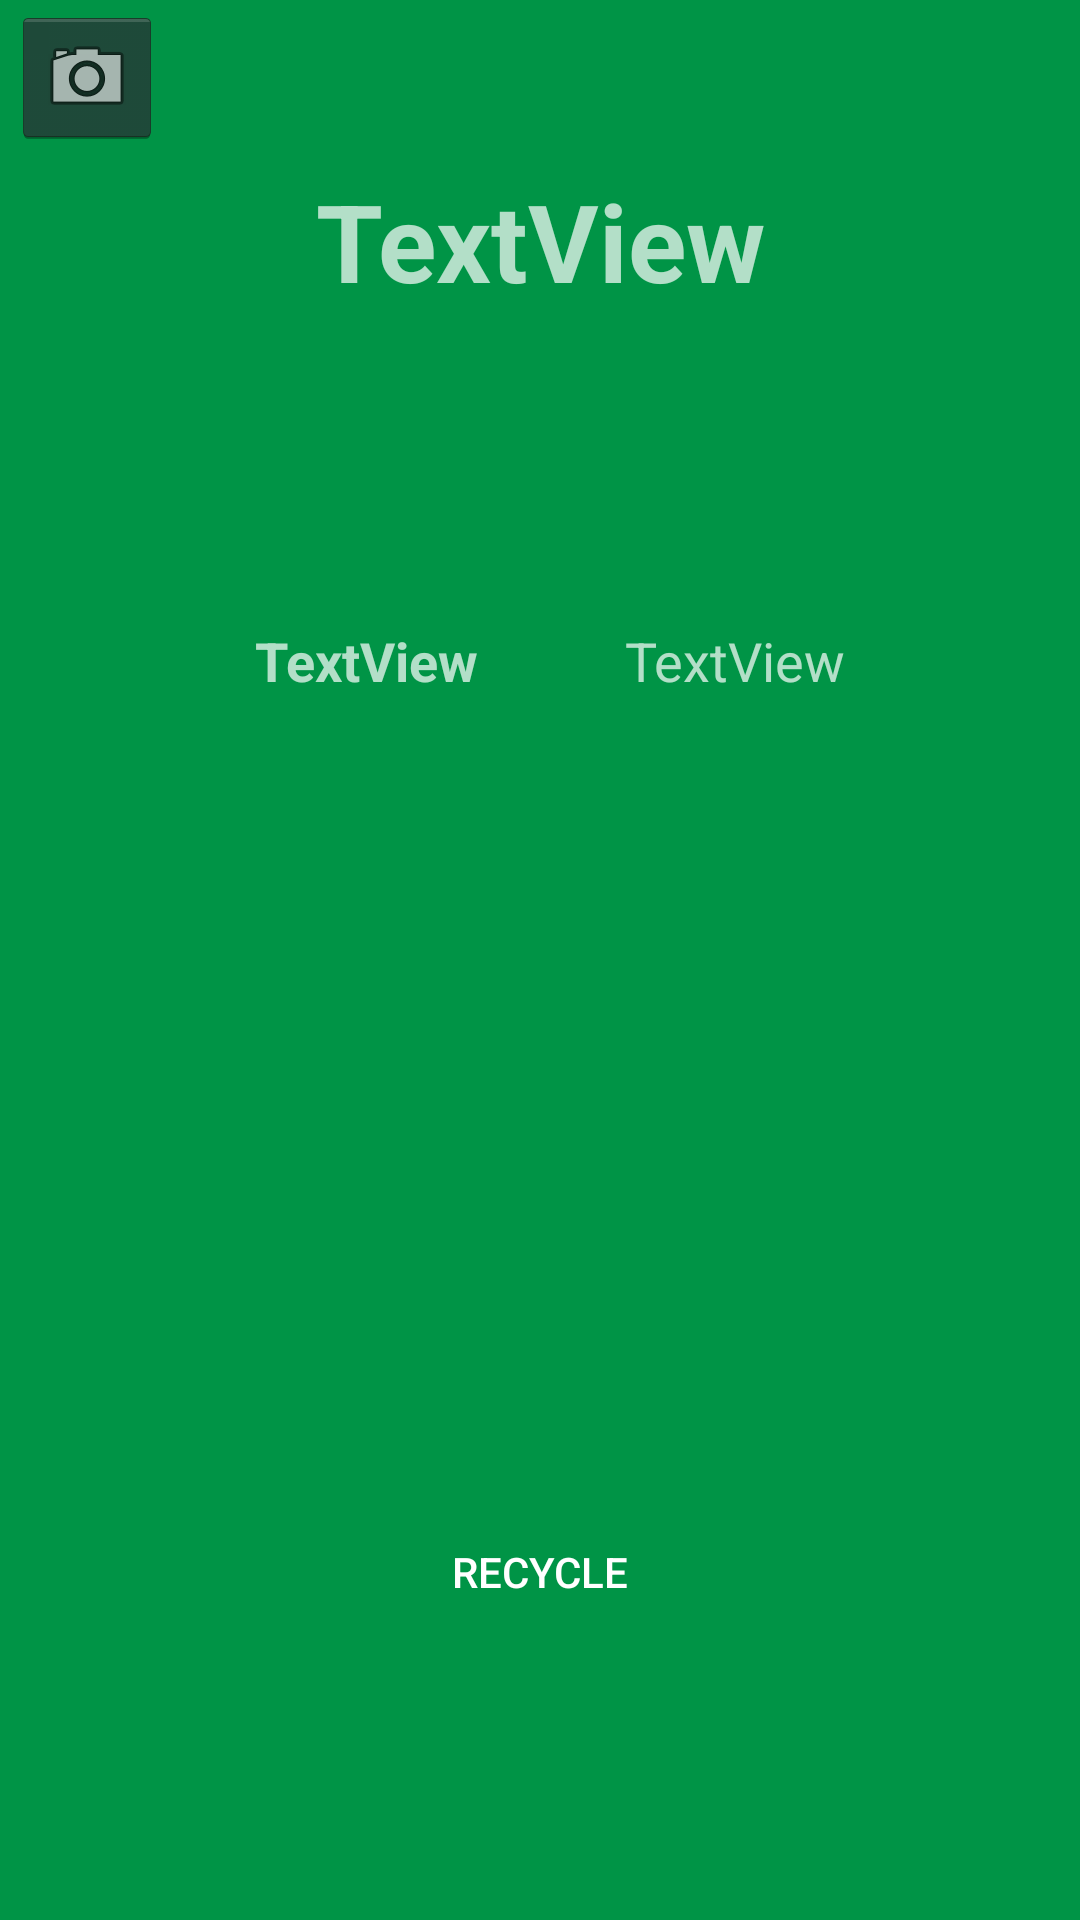

Named icons in this screenshot (1080 × 1920) and their bounding boxes, (x1, y1, x2, y2):
camera: (23, 18, 151, 139)
